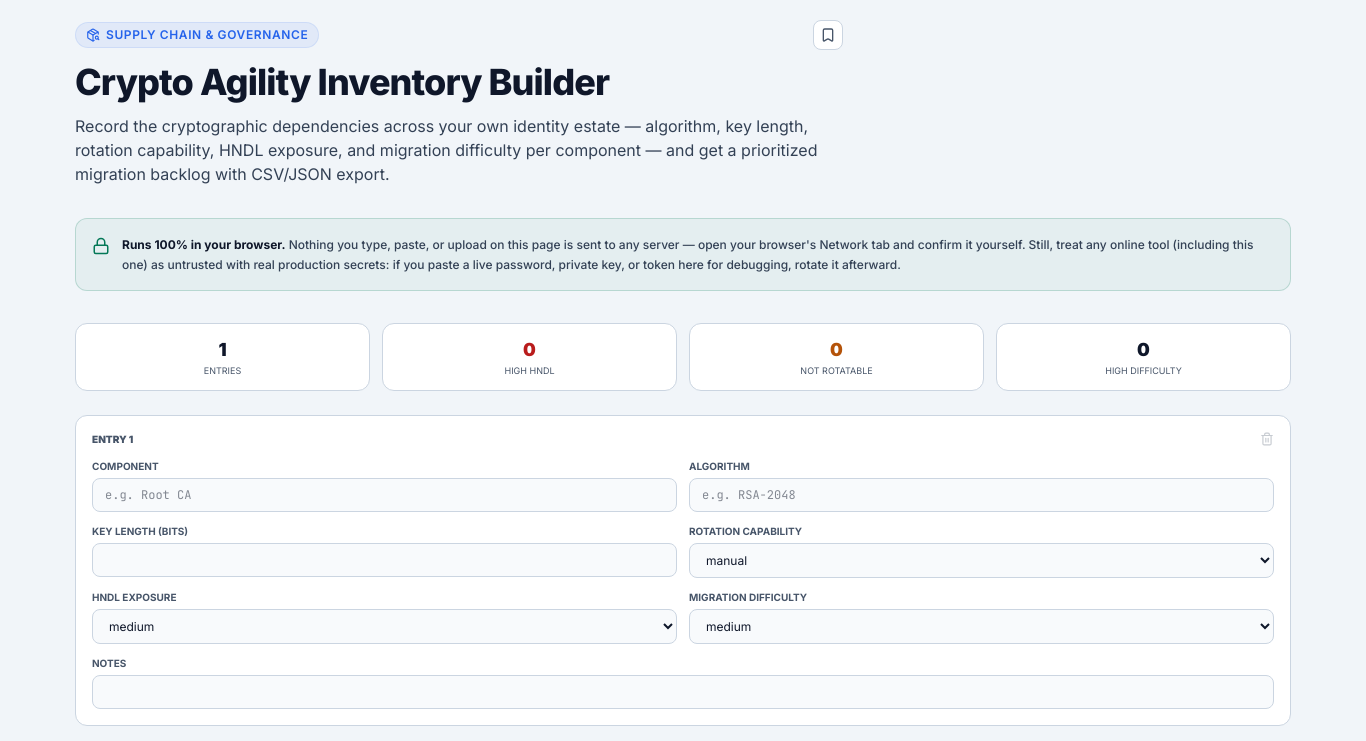
CryptoAgilityInventoryBuilder tool page › updates the migration backlog when a component name is entered
Type "Root CA" into the field labelled "Component" at coordinates (384, 494), box [92,478,677,512]
(page scrolled)
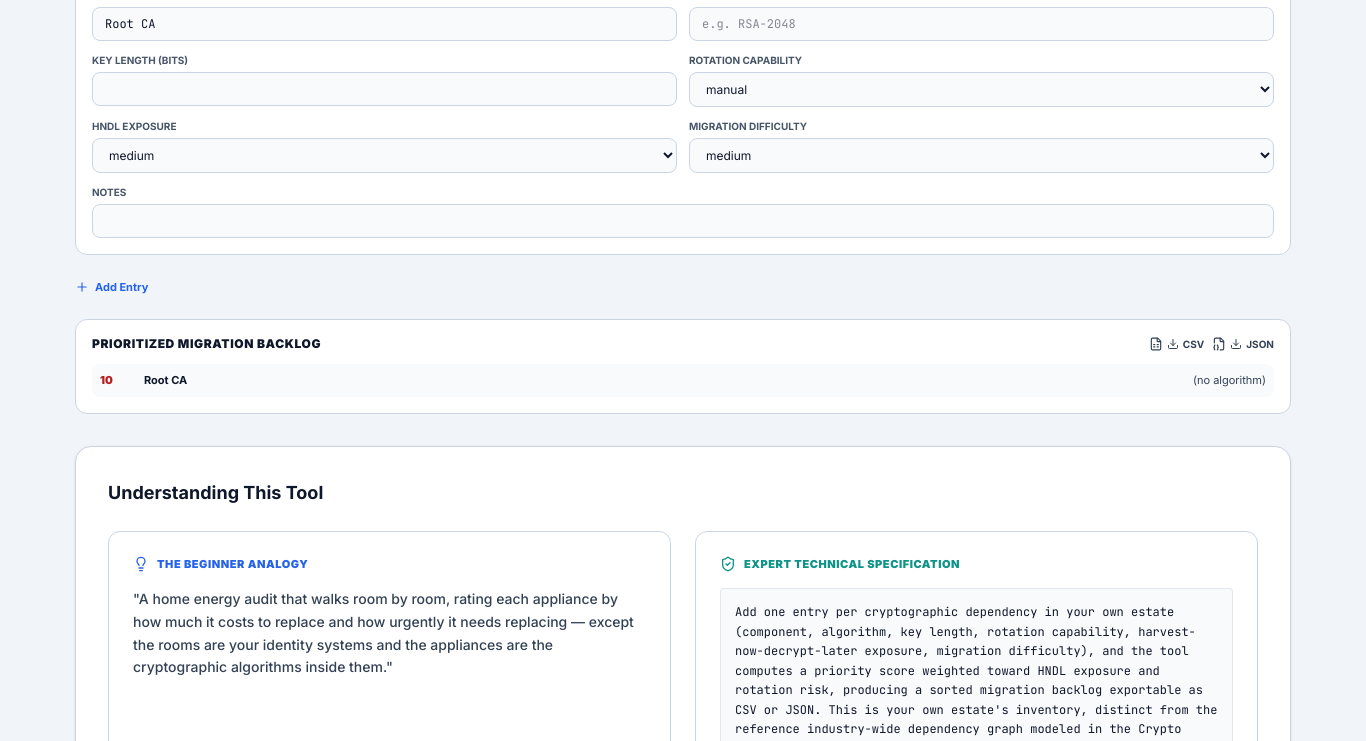
Now the text "Root CA" is shown, box [144,373,187,387]
